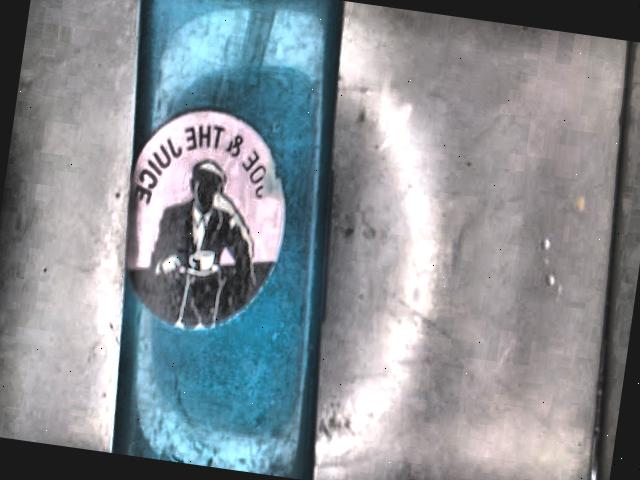Plastic: (111, 0, 345, 480)
